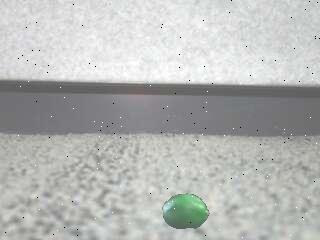Lime: (162, 193, 210, 230)
